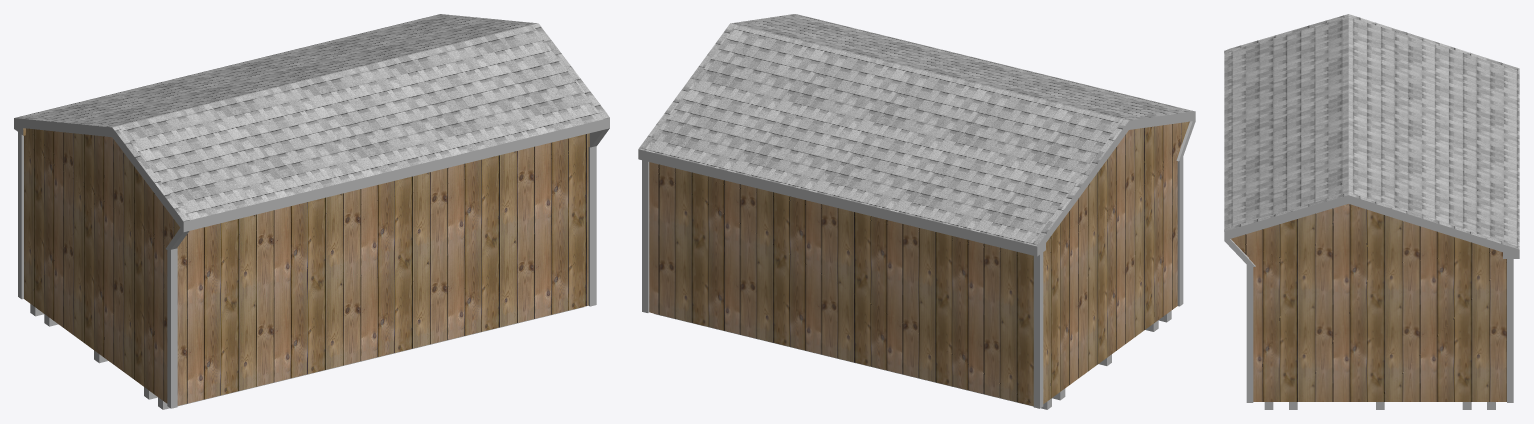
Rendered from Quaker Sheds_10x16.obj.
3 views of the same model, side by side, from view 1: azimuth 30°, elevation 25°; view 2: azimuth 150°, elevation 25°; view 3: azimuth 270°, elevation 25° (orthographic). The views are drawn at different scales.
Parts seen in each view (by area): view 1: Shed, Roof, Sides, Trim, Floor; view 2: Shed, Roof, Sides, Trim, Floor; view 3: Roof, Shed, Sides, Trim, Floor.
Part boxes in pixels (x1,y1,x2,y2): Shed: (23,128,589,405); Roof: (15,14,609,221); Sides: (14,118,609,251); Trim: (18,132,596,408); Floor: (30,304,583,409); Shed: (649,121,1189,405); Roof: (638,14,1193,246); Sides: (638,111,1195,256); Trim: (642,157,1183,408); Floor: (654,310,1171,409); Roof: (1224,14,1519,249); Shed: (1231,204,1506,401); Sides: (1224,195,1519,266); Trim: (1246,259,1513,402); Floor: (1264,402,1495,409).
Size of the model in its own units: 4.94 by 2.74 by 3.4.
